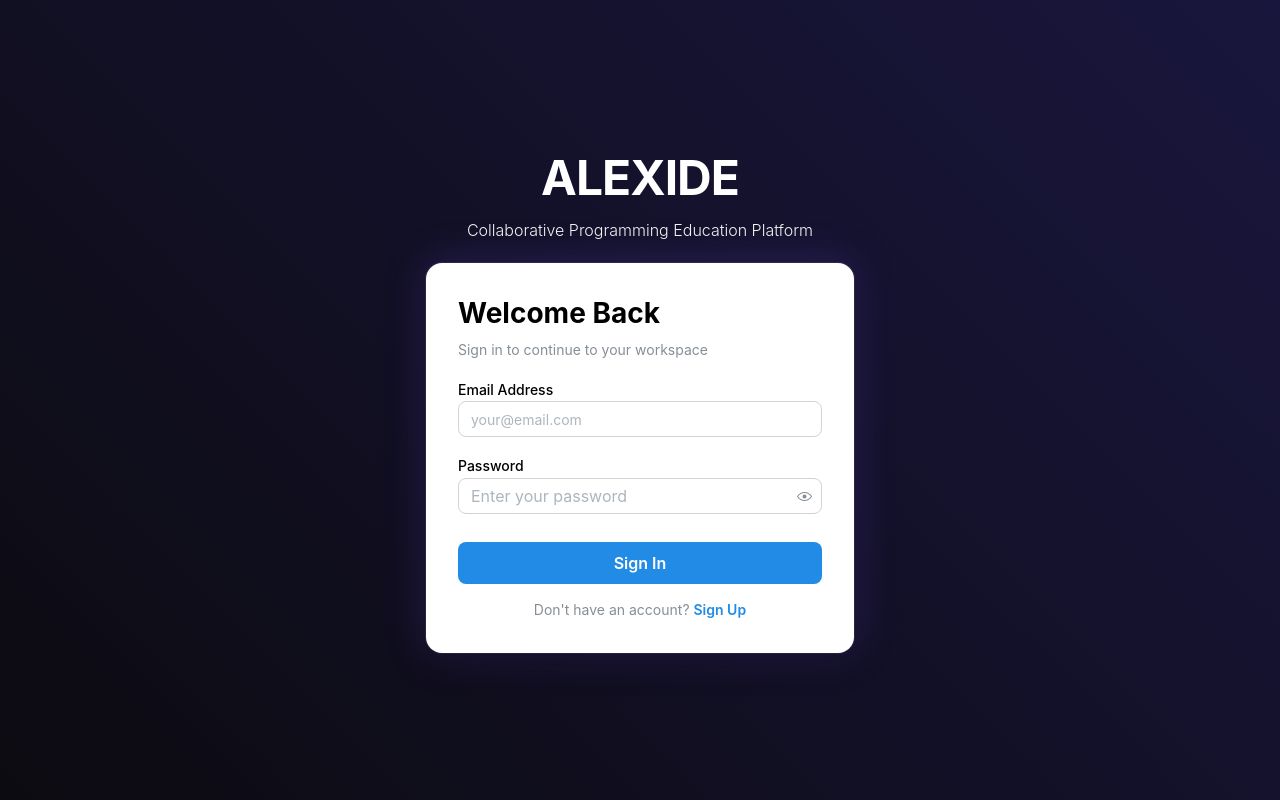
Authentication Component tests › should allow selecting teacher role in signup mode
Click the button "Sign Up". click: {"x": 720, "y": 610}
box: x1=694 y1=600 x2=746 y2=621
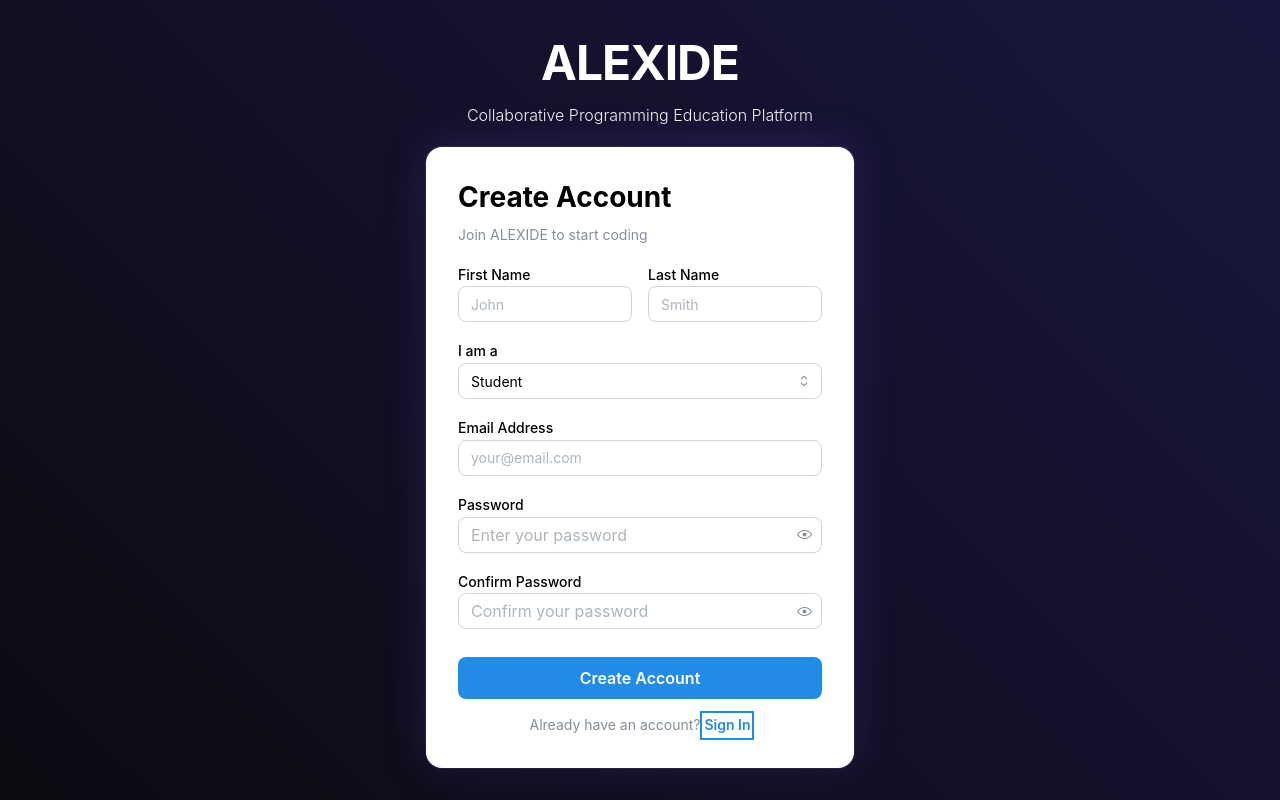
Expected: the field with placeholder "John" is shown, x1=458 y1=286 x2=632 y2=322
Click the field labelled "I am a". click: {"x": 640, "y": 381}
box: x1=458 y1=363 x2=822 y2=399
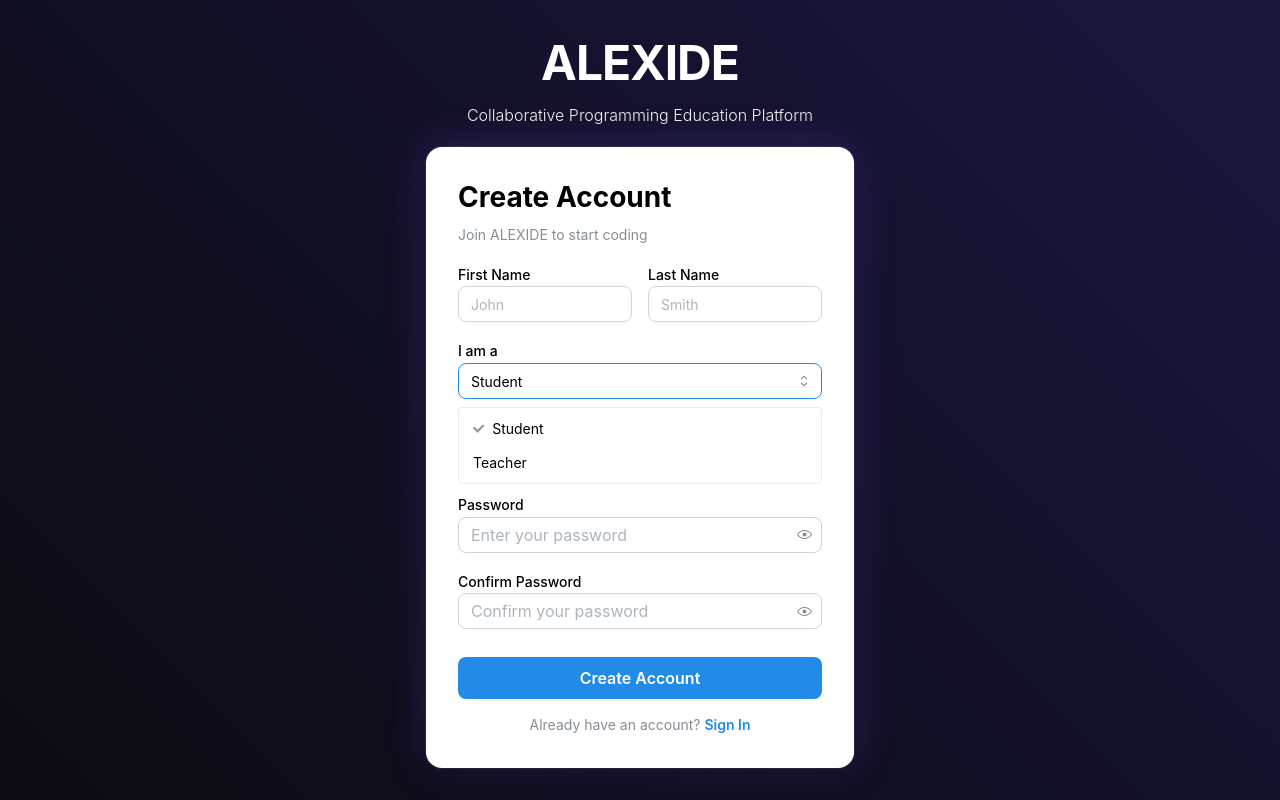
Expected: the text "Teacher" is shown
Click the option "Teacher". click: {"x": 500, "y": 462}
box: x1=473 y1=454 x2=527 y2=471
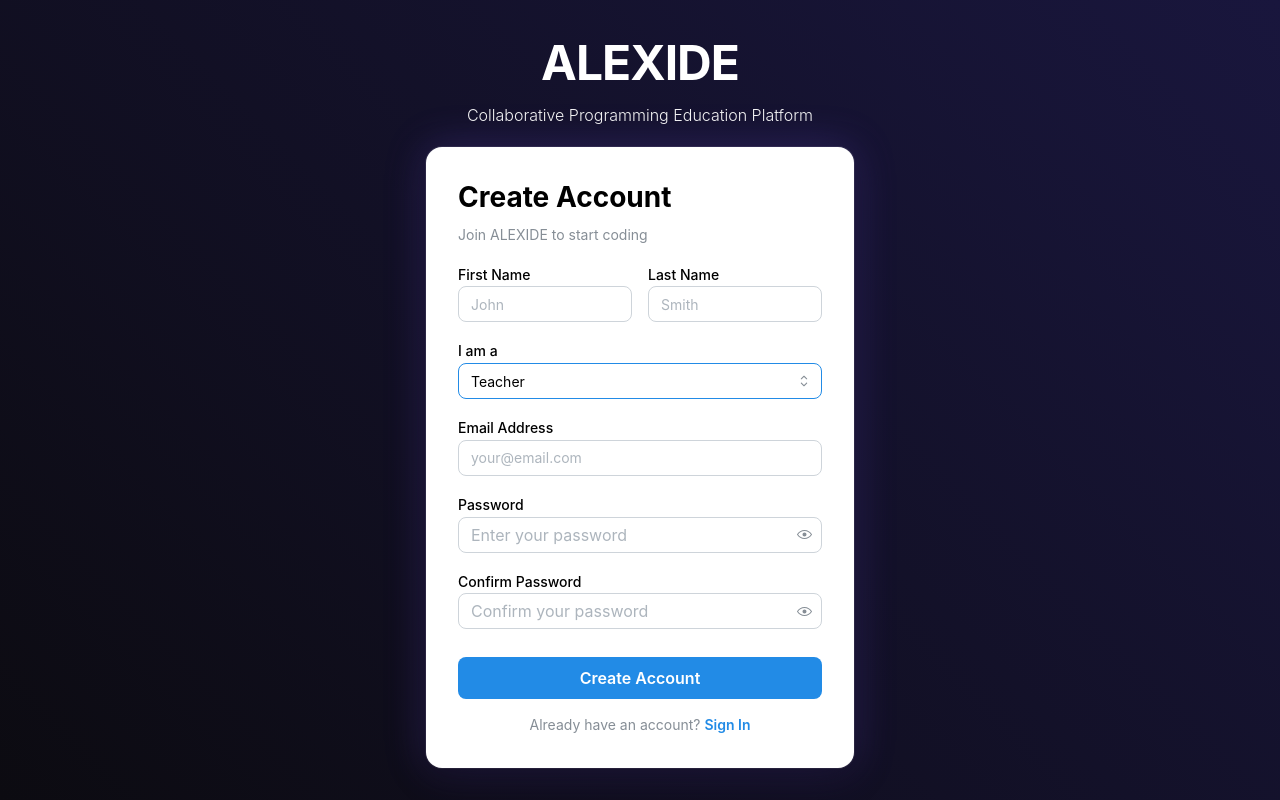
Expected: the field labelled "I am a" holds "Teacher", x1=458 y1=363 x2=822 y2=399
